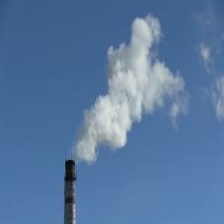smoke: (70, 33, 164, 158)
